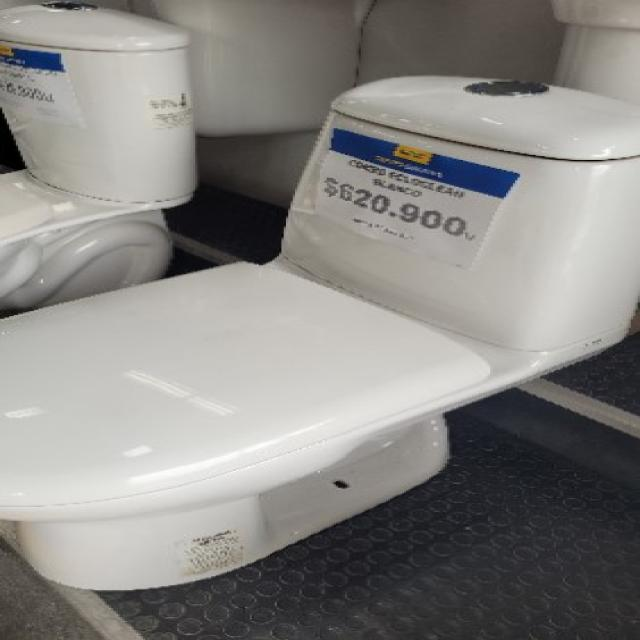toilet: (0, 0, 638, 590), (0, 0, 197, 312)
